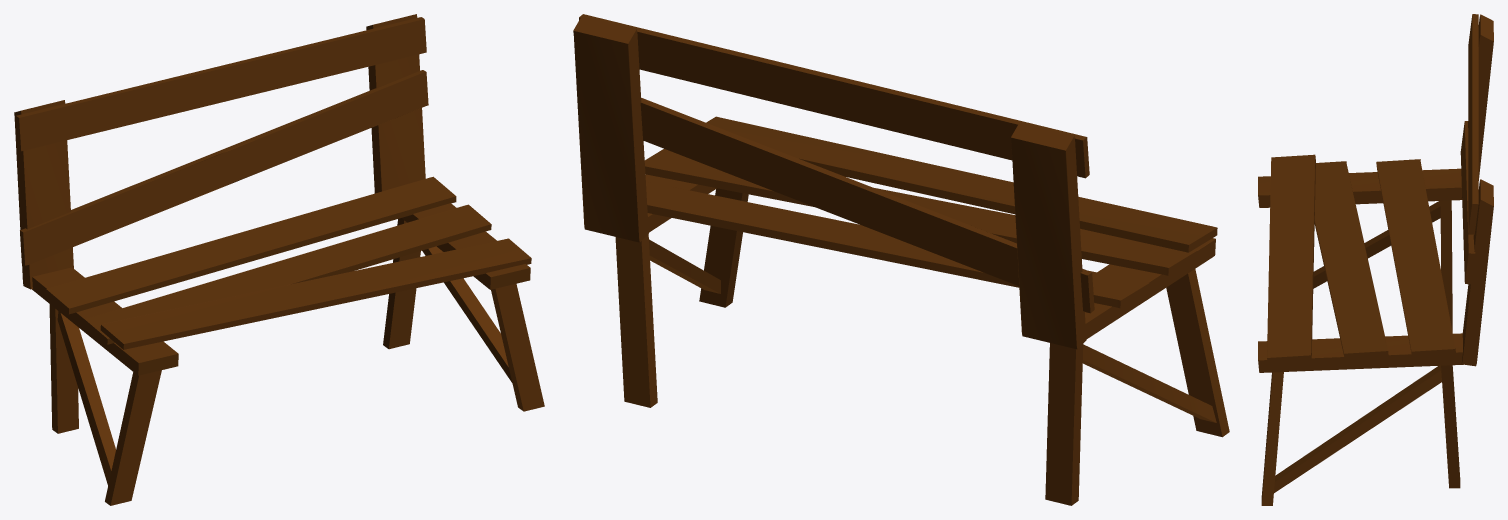
Rendered from banc_3.FBX.
3 renders of one model, left to right at view 1: azimuth 30°, elevation 25°; view 2: azimuth 150°, elevation 25°; view 3: azimuth 270°, elevation 25°, orthographic. The views are drawn at different scales.
Parts seen in each view (by area): view 1: Banc 1 High Poly001; view 2: Banc 1 High Poly001; view 3: Banc 1 High Poly001.
Part boxes in pixels (left/top/right/bottom): Banc 1 High Poly001: left=14, top=14, right=544, bottom=505; Banc 1 High Poly001: left=573, top=14, right=1229, bottom=505; Banc 1 High Poly001: left=1258, top=14, right=1493, bottom=505.
Size of the model in its own units: 155 by 108 by 76.99.
